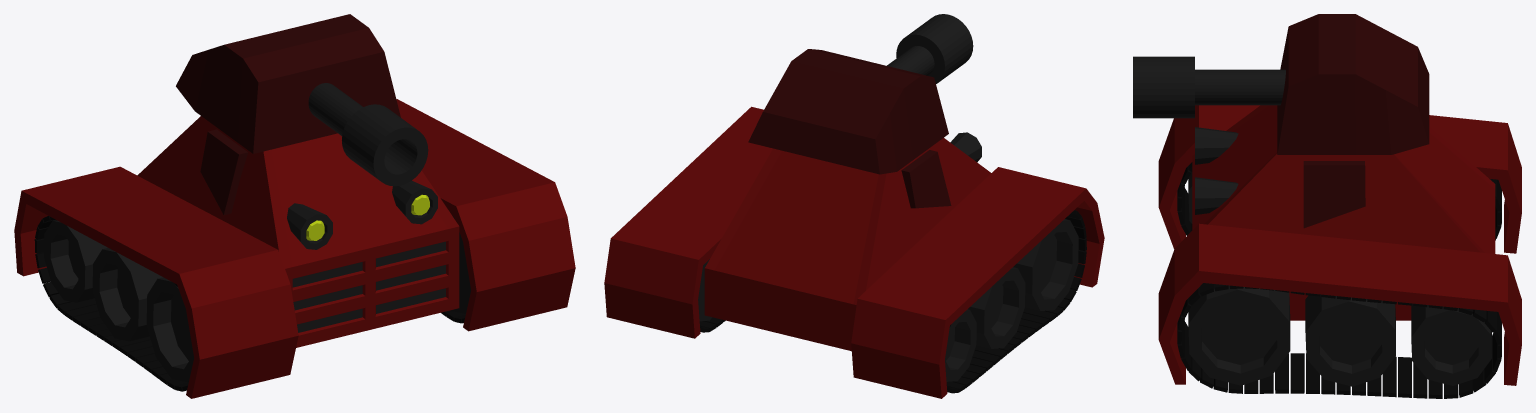
Rendered from tank-red.obj.
3 renders of one model, left to right at view 1: azimuth 30°, elevation 25°; view 2: azimuth 150°, elevation 25°; view 3: azimuth 270°, elevation 25°, orthographic. The views are drawn at different scales.
Parts seen in each view (by area): view 1: Cube, Cube.002, Cylinder.001, Cube.003, Cylinder; view 2: Cube, Cube.002, Cube.003, Cylinder.001, Cylinder; view 3: Cube, Cube.002, Cube.001, Cylinder.001, Cylinder, Cube.003.
Boxes of the visible parts, x1,y1,x2,y2 form: Cube: (14, 99, 575, 398); Cube.002: (176, 14, 400, 153); Cylinder.001: (342, 104, 428, 186); Cube.003: (34, 216, 188, 391); Cylinder: (308, 83, 362, 135); Cube: (604, 106, 1104, 398); Cube.002: (748, 49, 948, 174); Cube.003: (946, 210, 1086, 393); Cylinder.001: (896, 14, 973, 83); Cylinder: (887, 46, 934, 75); Cube: (1158, 105, 1521, 386); Cube.002: (1277, 14, 1429, 154); Cube.001: (1177, 283, 1501, 398); Cylinder.001: (1133, 56, 1194, 118); Cylinder: (1195, 69, 1285, 105); Cube.003: (1177, 162, 1501, 240).
Size of the model in its own units: 4.23 by 2.97 by 3.87.
